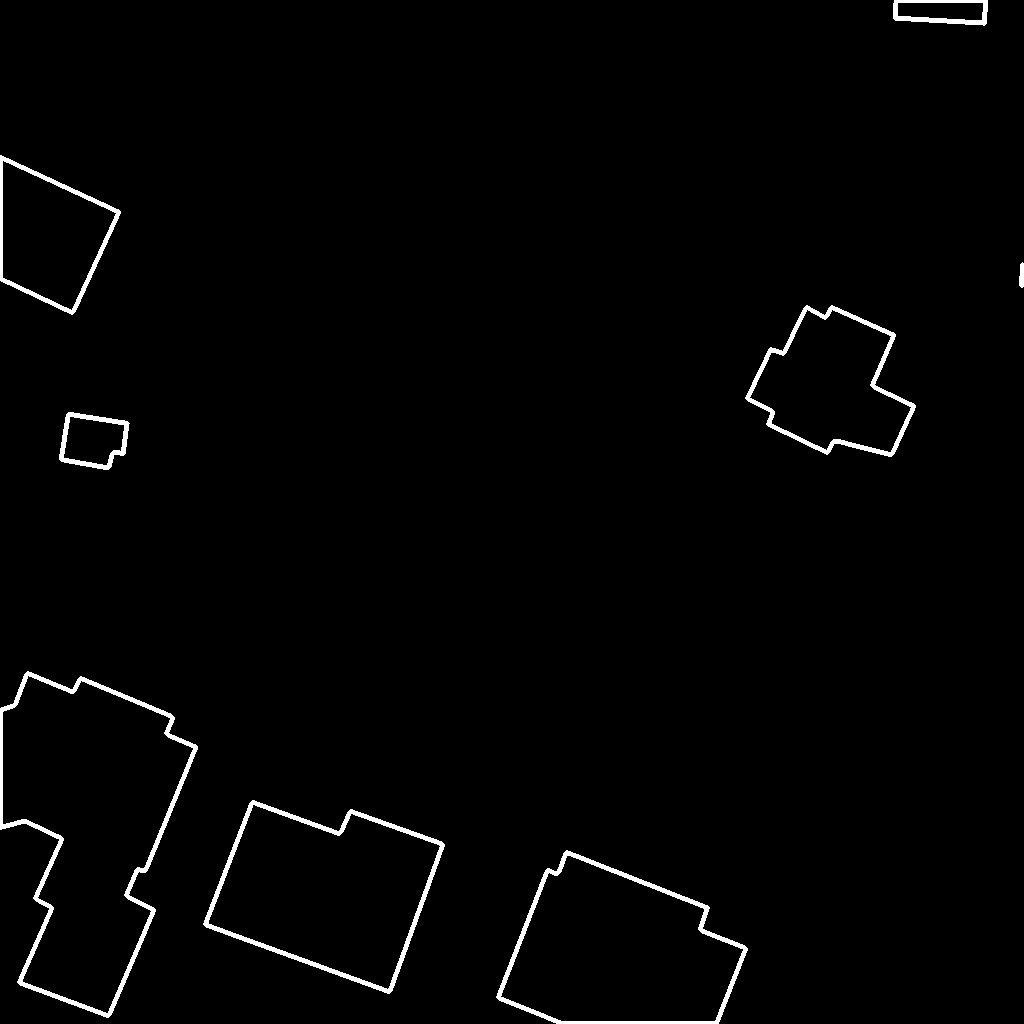building: (0, 673, 197, 1017), (205, 802, 444, 993), (498, 852, 747, 1024), (747, 307, 915, 456), (0, 157, 120, 314), (61, 414, 128, 469), (895, 0, 987, 24), (1021, 259, 1024, 287)
